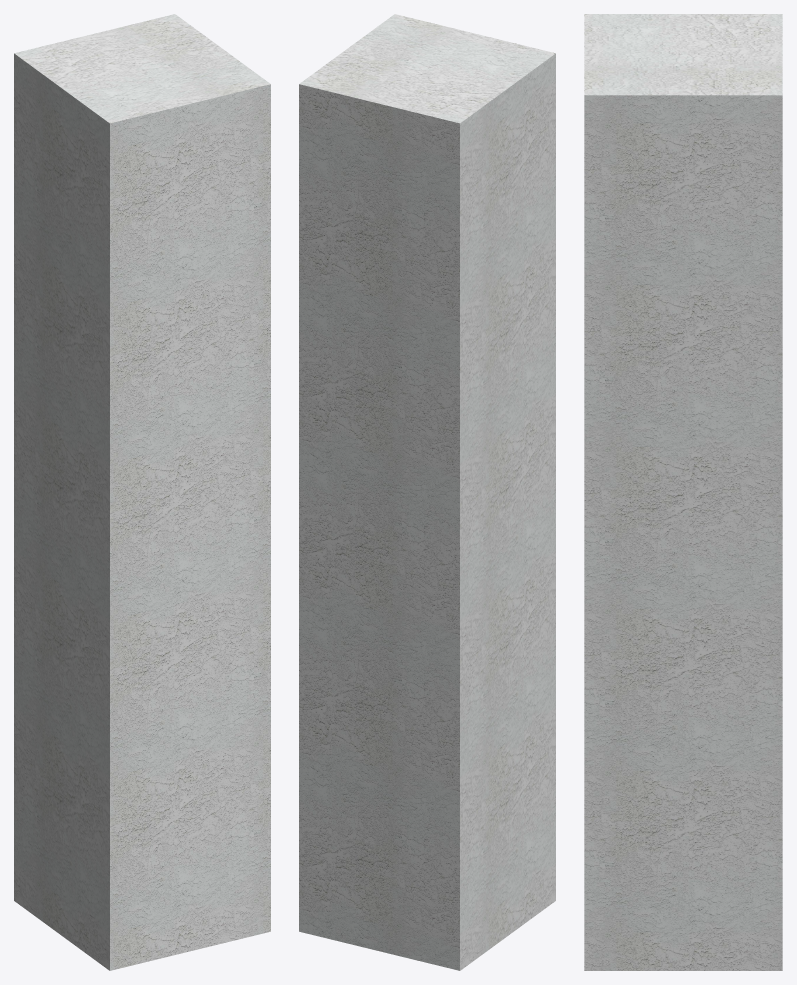
3 views of the same model, side by side, from view 1: azimuth 30°, elevation 25°; view 2: azimuth 150°, elevation 25°; view 3: azimuth 270°, elevation 25° (orthographic). The views are drawn at different scales.
Parts seen in each view (by area): view 1: C:castillo; view 2: C:castillo; view 3: C:castillo.
Boxes of the visible parts, left/top/right/bottom form: C:castillo: left=14, top=14, right=270, bottom=970; C:castillo: left=299, top=14, right=555, bottom=970; C:castillo: left=584, top=14, right=782, bottom=970.
Size of the model in its own units: 1.03 by 5.18 by 1.06.
1 material, 1 textured.
